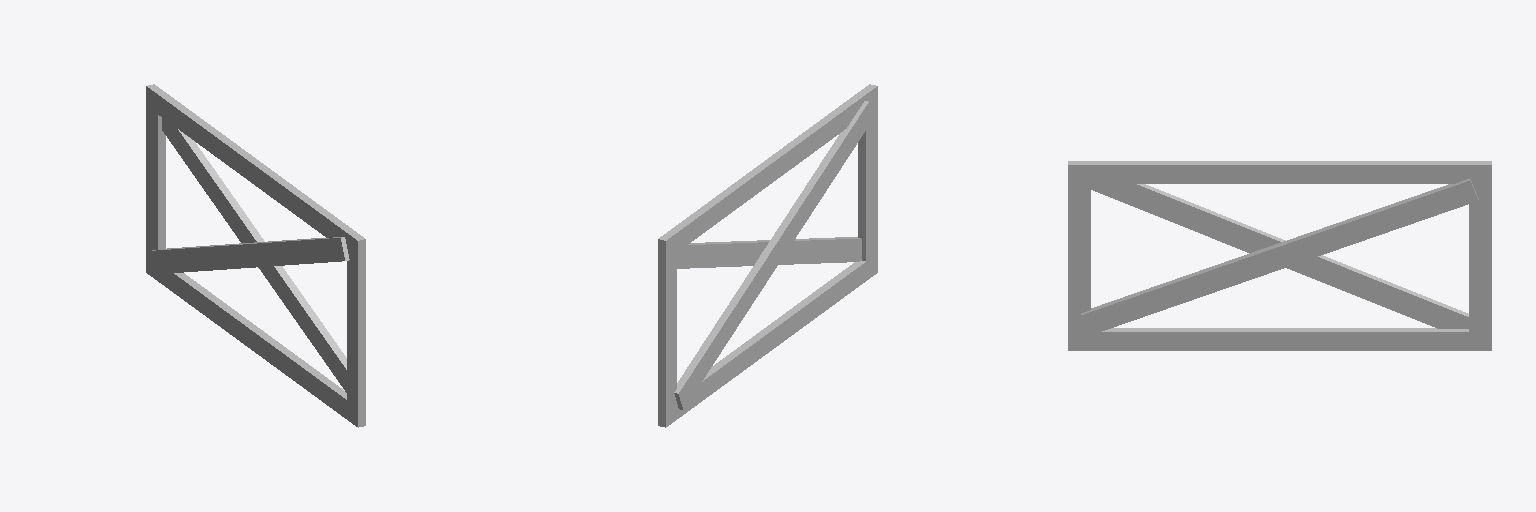
File: gate.obj
3 renders of one model, left to right at view 1: azimuth 30°, elevation 25°; view 2: azimuth 150°, elevation 25°; view 3: azimuth 270°, elevation 25°, orthographic.
Visible parts, largest first — view 1: Cube.002; view 2: Cube.002; view 3: Cube.002.
Part boxes in pixels (bbox=[...]): Cube.002: bbox=[146, 84, 365, 427]; Cube.002: bbox=[658, 84, 877, 427]; Cube.002: bbox=[1068, 161, 1491, 350].
Size of the model in its own units: 0.1477 by 1.6 by 3.29.